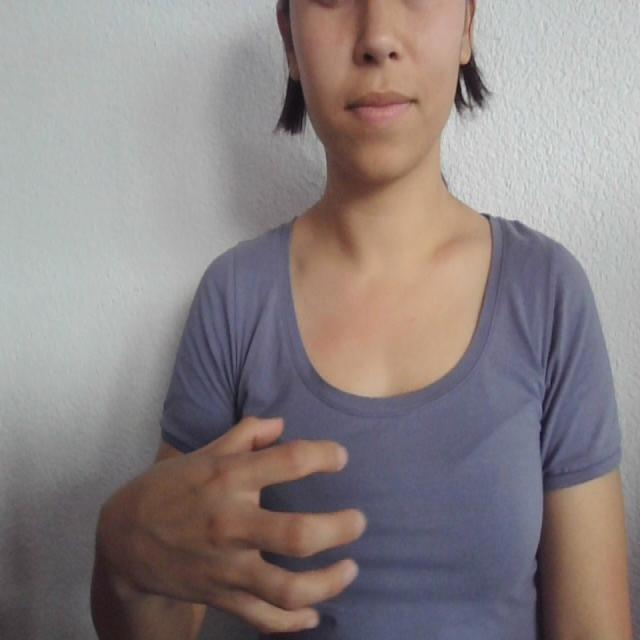Anne: (80, 398, 604, 639)
